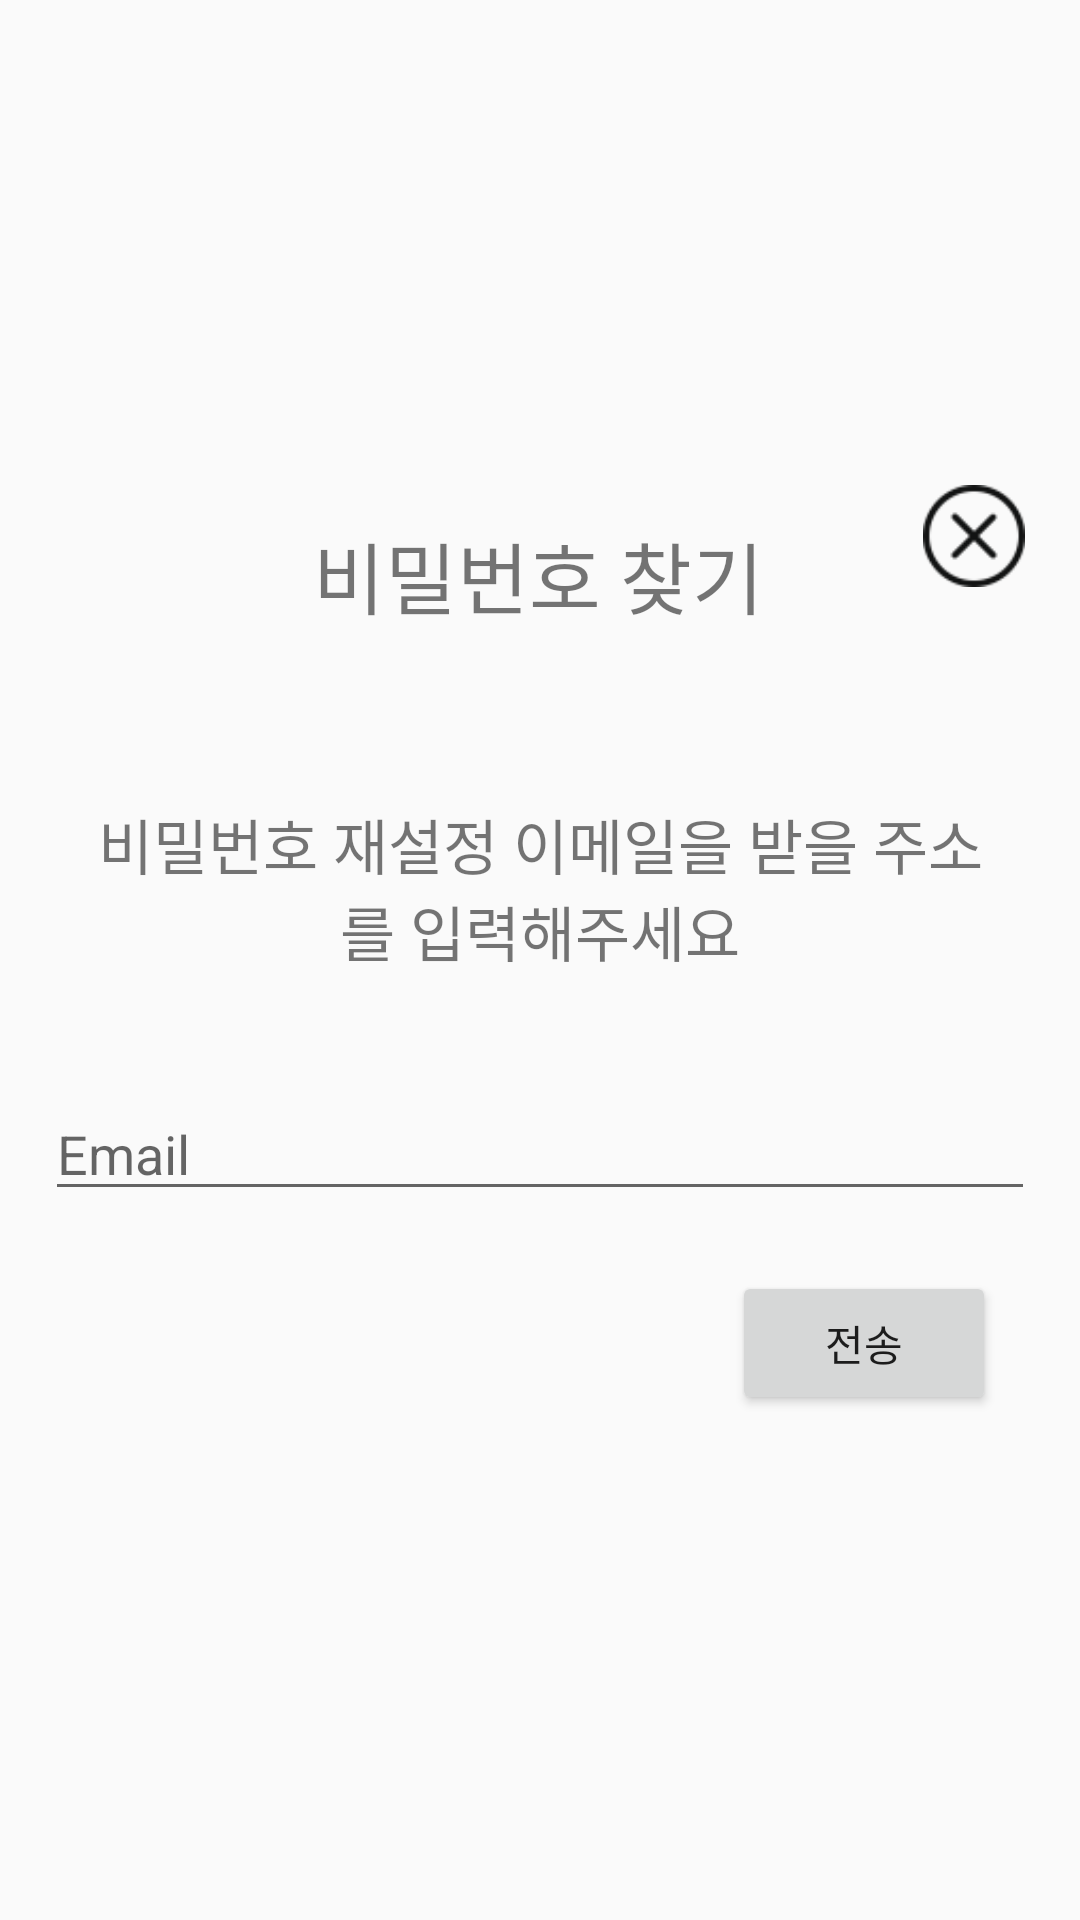

Icon click points for this 1080w x 1920h phone screenshot, format (x,y):
cancel: (974,536)
